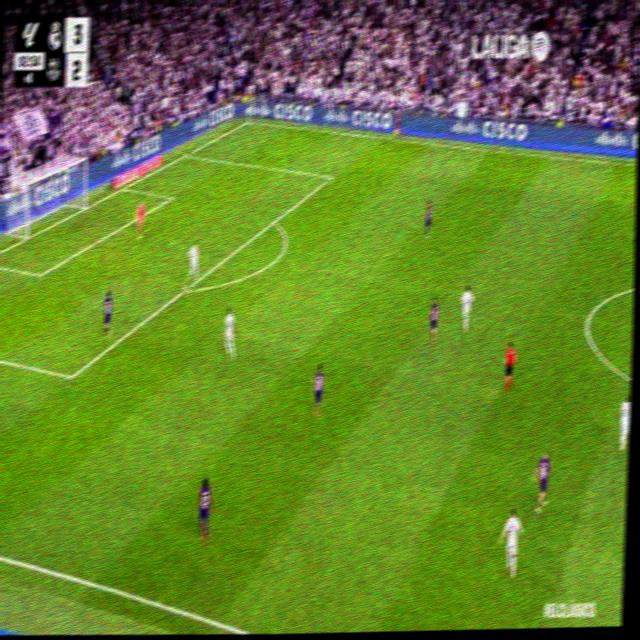bigarea_bottom_inner: (66, 364, 76, 386)
bigarea_top_inner: (327, 169, 333, 182)
bigarea_top_outter: (182, 147, 190, 159)
bottom_arc_area_intersection: (181, 280, 191, 297)
smallarea_bottom_inner: (34, 267, 43, 282)
smallarea_top_inner: (167, 192, 173, 201)
top_arc_area_intersection: (268, 212, 278, 228)
